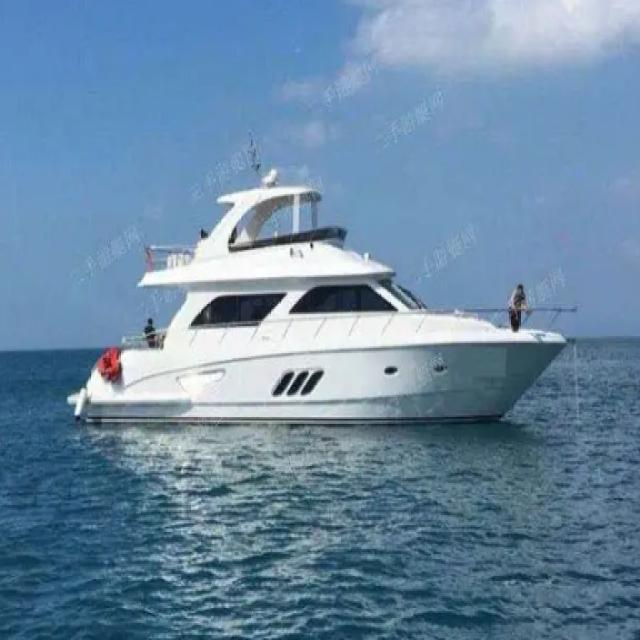houseboat: (70, 145, 572, 426)
